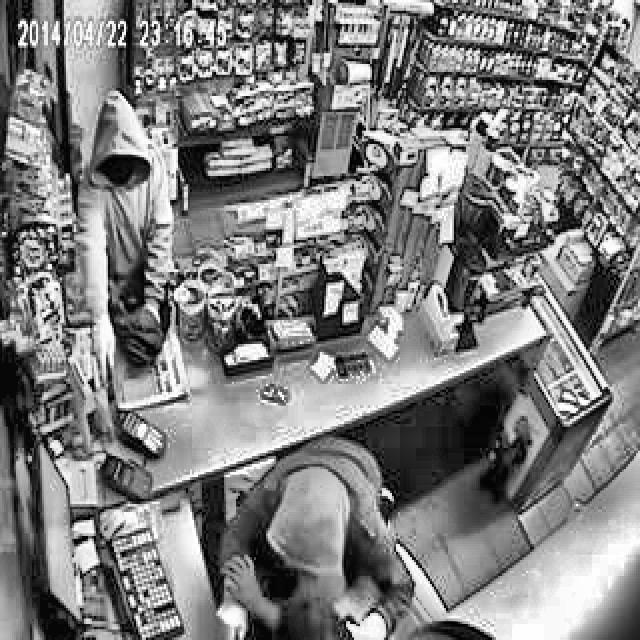robbery: (209, 433, 421, 638), (72, 86, 182, 398)
